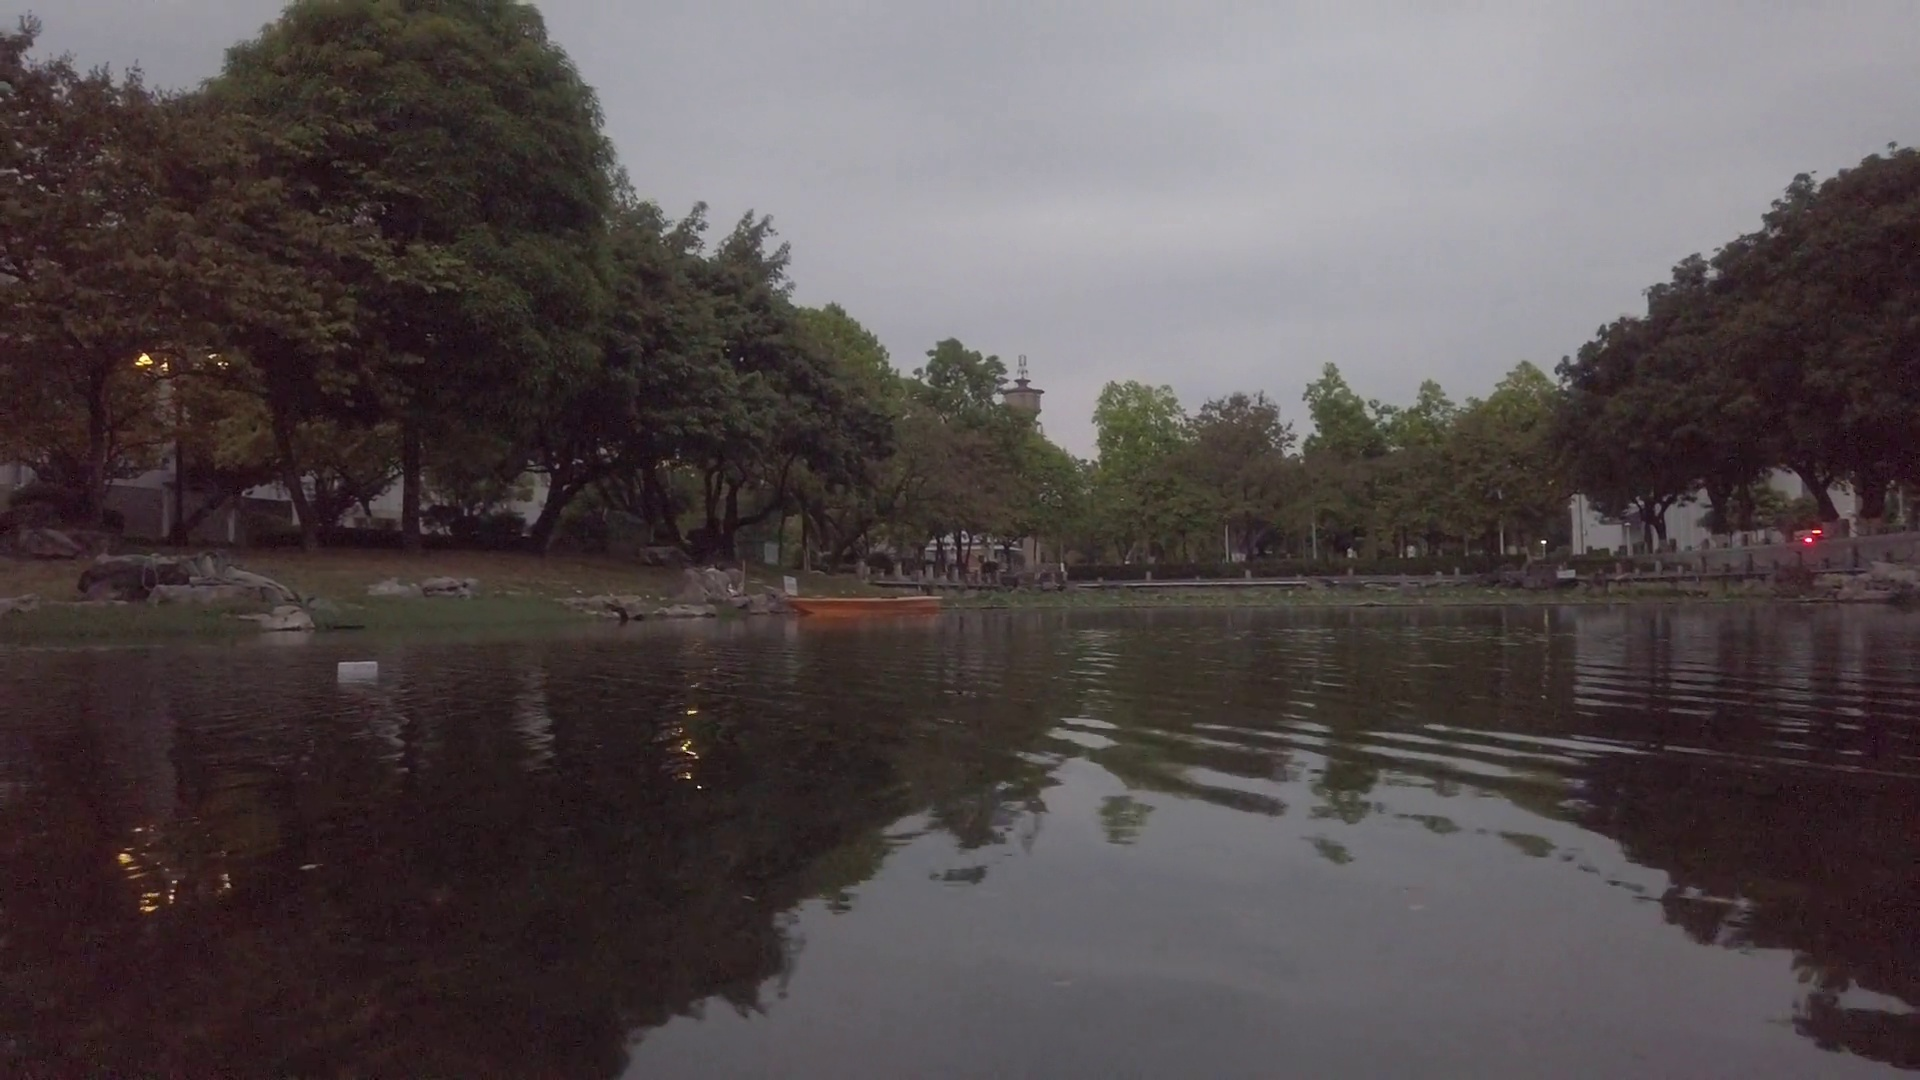carton: (336, 658, 380, 684)
